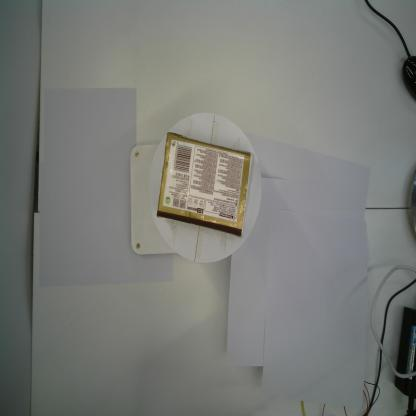Tissue: (156, 132, 252, 239)
